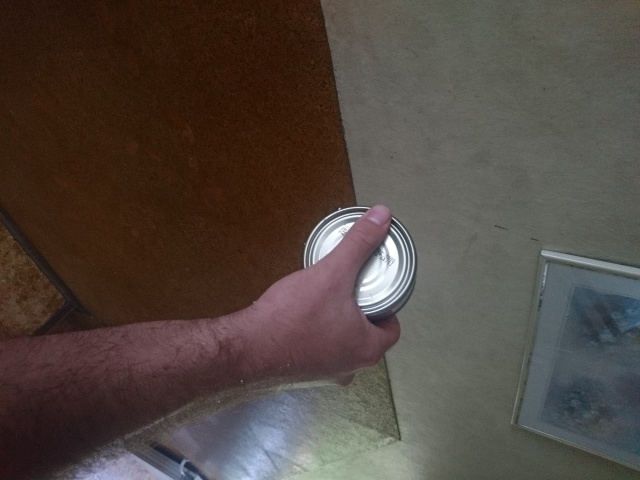Giana Tuna Salad Mexico 185g: (298, 203, 420, 324)
